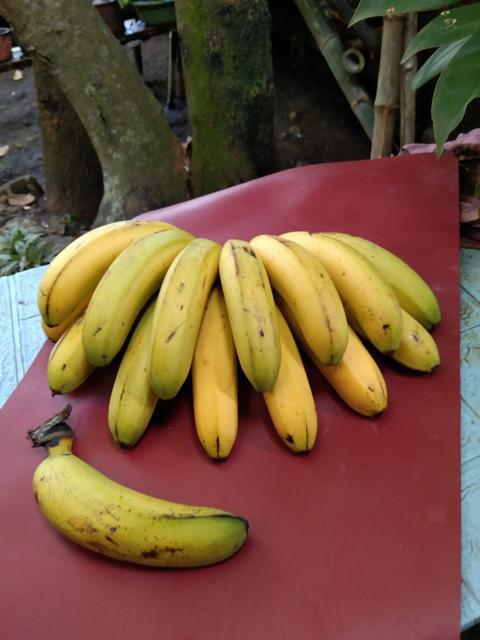ripe: (26, 442, 262, 577), (306, 217, 400, 357), (211, 236, 291, 399), (141, 234, 218, 401)
